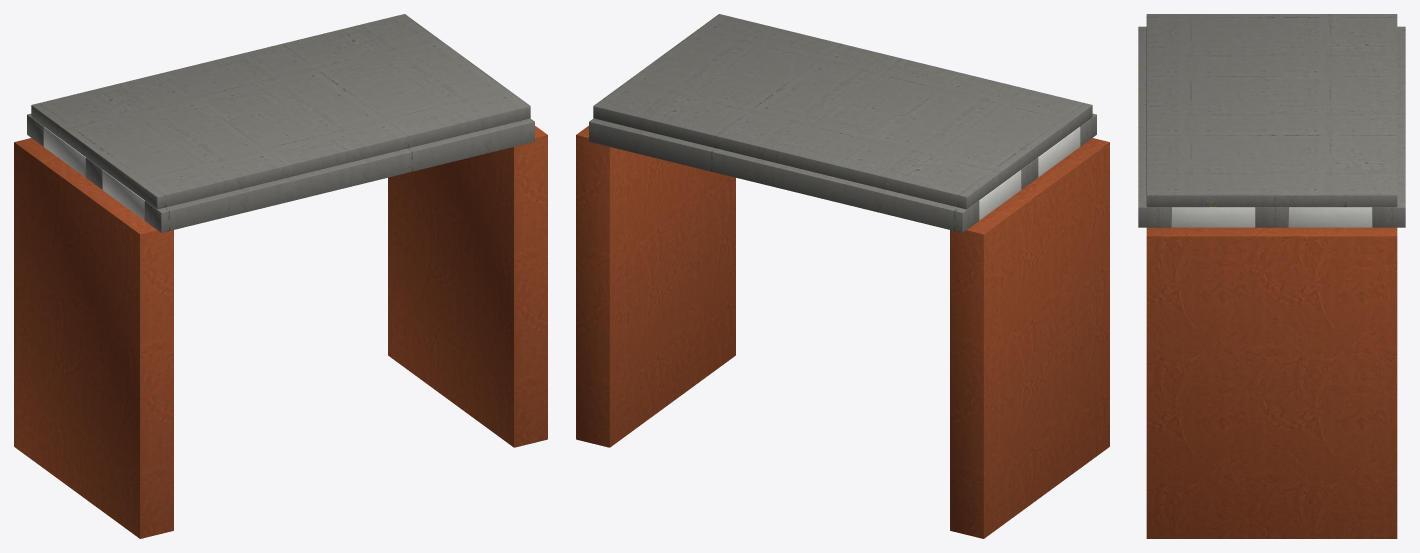
File: KIT-ELE-02.glb
3 renders of one model, left to right at view 1: azimuth 30°, elevation 25°; view 2: azimuth 150°, elevation 25°; view 3: azimuth 270°, elevation 25°, orthographic.
Visible parts, largest first — view 1: KIT-ELE-02_capa, KIT-ELE-02_apoio-1, KIT-ELE-02_apoio1, KIT-ELE-02_vigota0, KIT-ELE-02_eps0a, KIT-ELE-02_eps1; view 2: KIT-ELE-02_capa, KIT-ELE-02_apoio-1, KIT-ELE-02_apoio1, KIT-ELE-02_vigota2, KIT-ELE-02_eps1, KIT-ELE-02_eps0a; view 3: KIT-ELE-02_apoio1, KIT-ELE-02_capa, KIT-ELE-02_vigota0, KIT-ELE-02_vigota2, KIT-ELE-02_eps1, KIT-ELE-02_eps0b, KIT-ELE-02_vigota1.
Boxes of the visible parts, x1,y1,x2,y2 form: KIT-ELE-02_capa: (31,14,530,209); KIT-ELE-02_apoio-1: (14,138,173,538); KIT-ELE-02_apoio1: (388,126,547,447); KIT-ELE-02_vigota0: (144,118,534,232); KIT-ELE-02_eps0a: (102,170,144,220); KIT-ELE-02_eps1: (43,127,85,177); KIT-ELE-02_capa: (593,14,1092,209); KIT-ELE-02_apoio-1: (950,138,1109,538); KIT-ELE-02_apoio1: (576,126,735,447); KIT-ELE-02_vigota2: (589,118,979,232); KIT-ELE-02_eps1: (979,170,1021,220); KIT-ELE-02_eps0a: (1038,127,1080,177); KIT-ELE-02_apoio1: (1146,227,1397,538); KIT-ELE-02_capa: (1146,14,1397,207); KIT-ELE-02_vigota0: (1138,26,1171,227); KIT-ELE-02_vigota2: (1372,26,1405,227); KIT-ELE-02_eps1: (1288,207,1372,227); KIT-ELE-02_eps0b: (1171,207,1255,227); KIT-ELE-02_vigota1: (1255,207,1288,227).
Bounding box in the file's own units: 1.68 × 1.33 × 0.96.
Materials: 11 (4 with a texture image).
